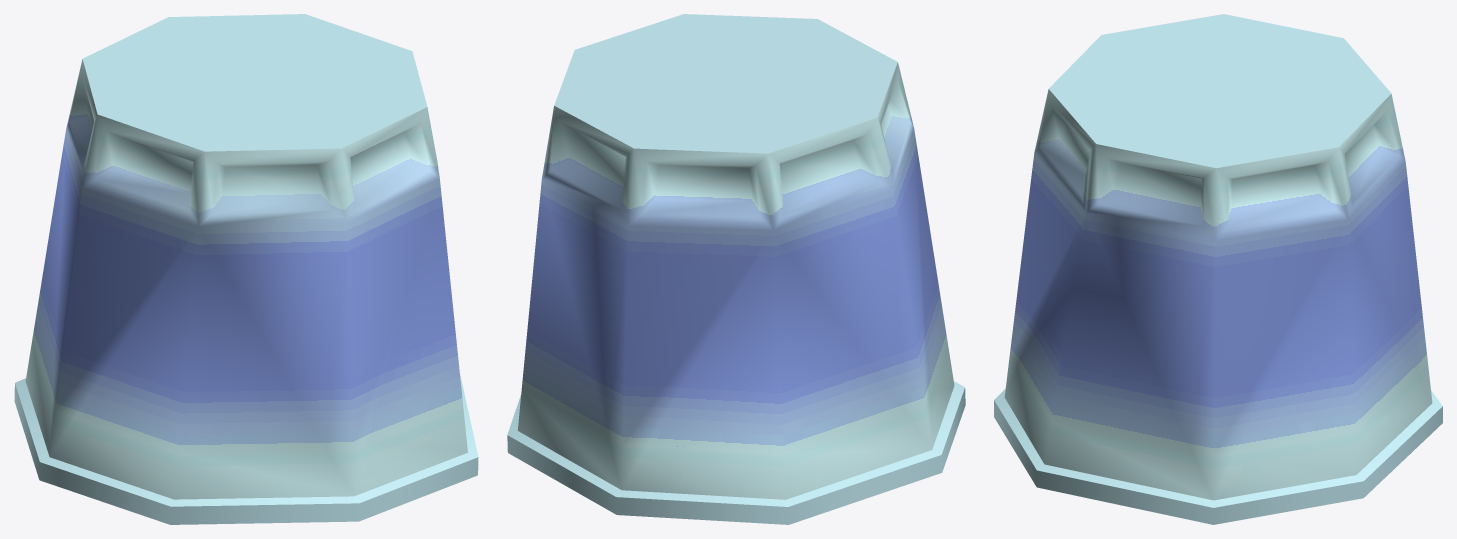
Rendered from H_LowballGlass_Full.fbx.
The picture shows the model from 3 angles, left to right: view 1: azimuth 30°, elevation 25°; view 2: azimuth 150°, elevation 25°; view 3: azimuth 270°, elevation 25°; orthographic projection. The views are drawn at different scales.
Visible parts, largest first — view 1: LowballGlassLiquid; view 2: LowballGlassLiquid; view 3: LowballGlassLiquid.
Part boxes in pixels (bbox=[...]): LowballGlassLiquid: bbox=[14, 14, 478, 524]; LowballGlassLiquid: bbox=[507, 14, 965, 524]; LowballGlassLiquid: bbox=[994, 14, 1442, 524].
Bounding box in the file's own units: 20.01 × 16.47 × 19.44.
